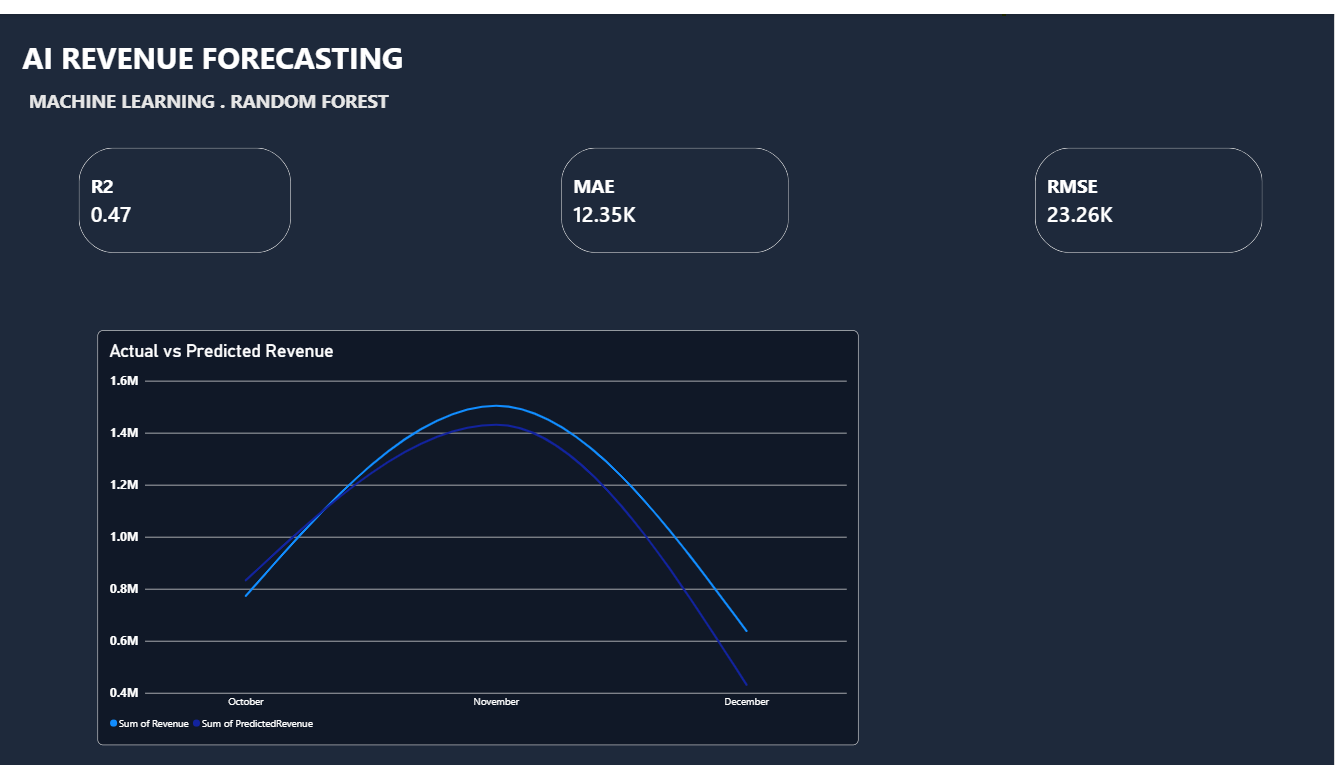

Layout of this report page (visuals, bound fields, positions):
{"tool":"powerbi","page":{"name":"AI Revenue Forecasting","canvas":[1920,1080],"ordinal":3},"visuals":[{"type":"textbox","box":[10.7,32.1,628.6,73.2],"z":0},{"type":"textbox","box":[55.4,105.4,526.8,42.9],"z":1},{"type":"lineChart","title":"Actual vs Predicted Revenue","fields":{"Category":["revenue_forecast_holdout.Date.Variation.Date Hierarchy.Month","revenue_forecast_holdout.Date.Variation.Date Hierarchy.Day"],"Y":["Sum(revenue_forecast_holdout.Revenue)","Sum(revenue_forecast_holdout.PredictedRevenue)"]},"box":[153.6,451.8,1087.5,592.9],"z":2},{"type":"cardVisual","fields":{"Data":["Sum(forecast_metrics.R2)"]},"box":[126.8,191.1,303.6,150],"z":3},{"type":"cardVisual","fields":{"Data":["Sum(forecast_metrics.MAE)"]},"box":[816.1,191.1,325,150],"z":4},{"type":"cardVisual","fields":{"Data":["Sum(forecast_metrics.RMSE)"]},"box":[1492.9,191.1,325,150],"z":5}]}

Visuals, with their boxes in screenshot pixels (x1, y1, x2, y2), scaled from the page's 1920x1080 canvas onto the 1335x765 screenshot:
textbox: pyautogui.locateOnScreen(7, 23, 445, 75)
textbox: pyautogui.locateOnScreen(39, 75, 405, 105)
"Actual vs Predicted Revenue" lineChart: pyautogui.locateOnScreen(107, 320, 863, 740)
cardVisual - Sum(forecast_metrics.R2): pyautogui.locateOnScreen(88, 135, 299, 242)
cardVisual - Sum(forecast_metrics.MAE): pyautogui.locateOnScreen(567, 135, 793, 242)
cardVisual - Sum(forecast_metrics.RMSE): pyautogui.locateOnScreen(1038, 135, 1264, 242)
